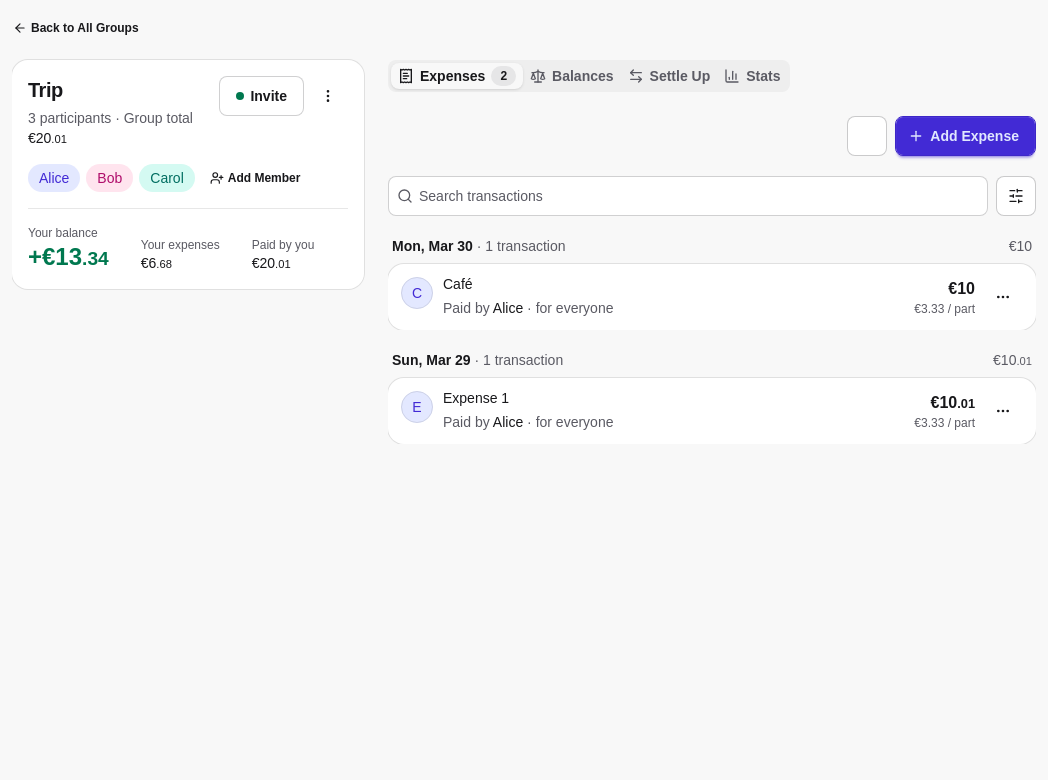
Scenario: GroupPage › shows one tab at a time
Click the tab "Balances". click: click(572, 76)
box: [523,63,621,89]
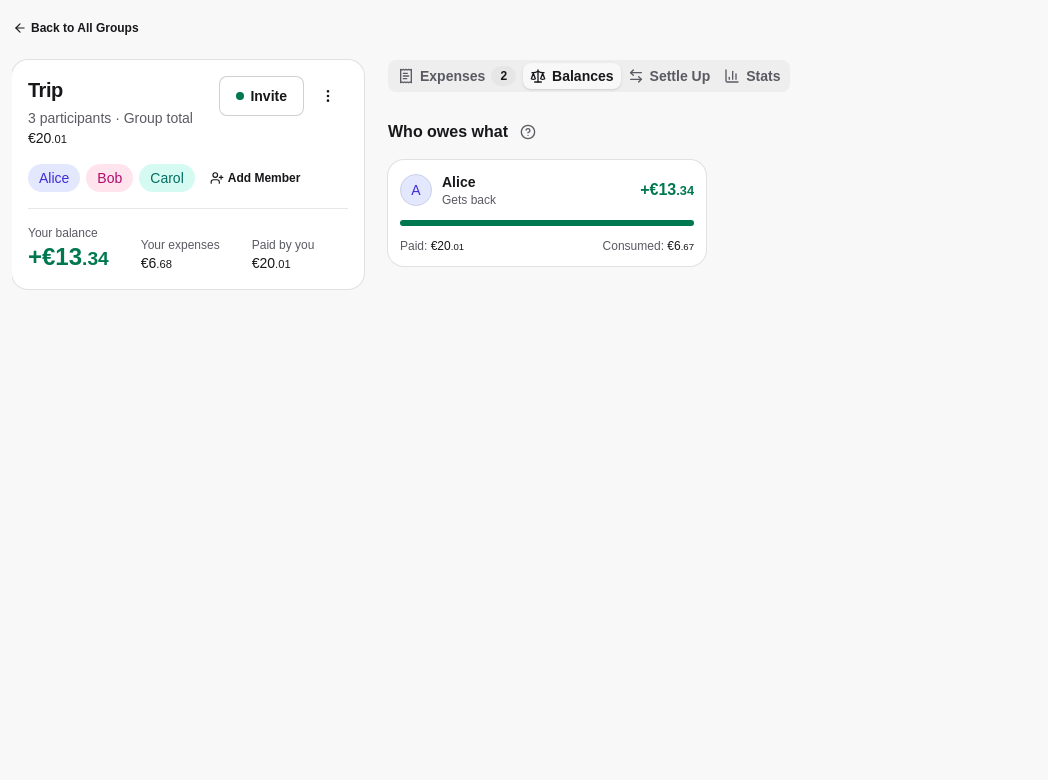
Expected: no list items with test id "expense-item" are shown
Expected: the number of list items with test id "balance-card" is 1, [388,160,706,266]
Click the tab "Stats". click: click(752, 76)
box: [717,63,787,89]
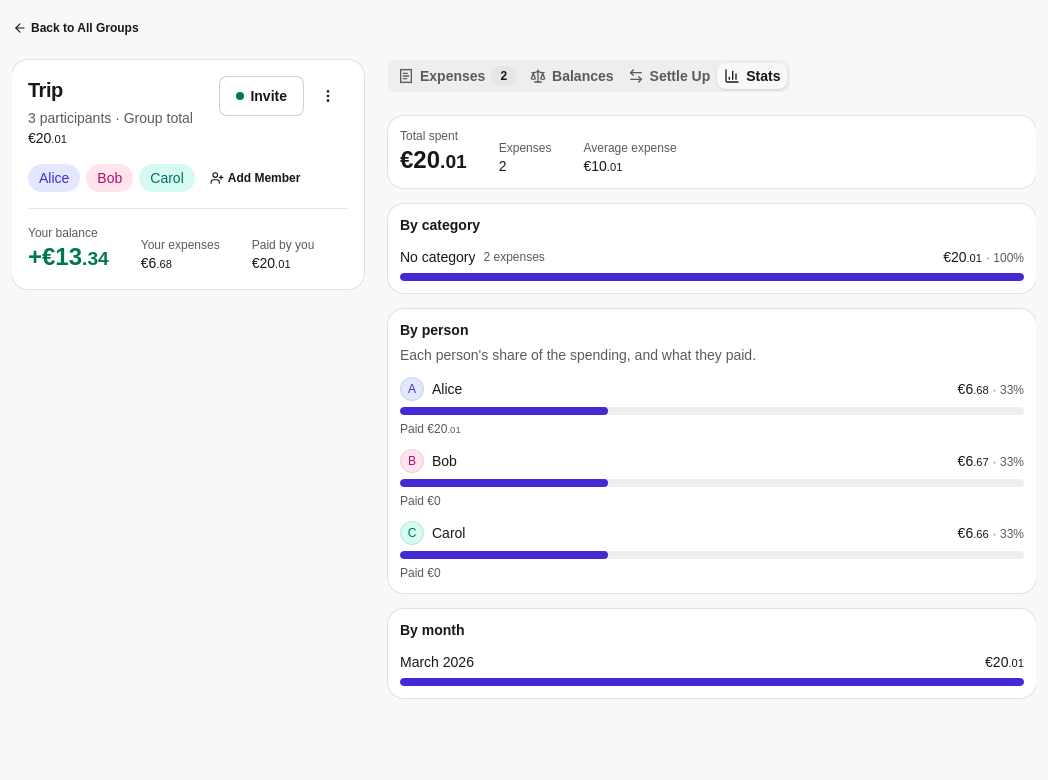
Expected: no list items with test id "balance-card" are shown
Expected: the list with test id "stats-people" is shown, [400,376,1024,580]
